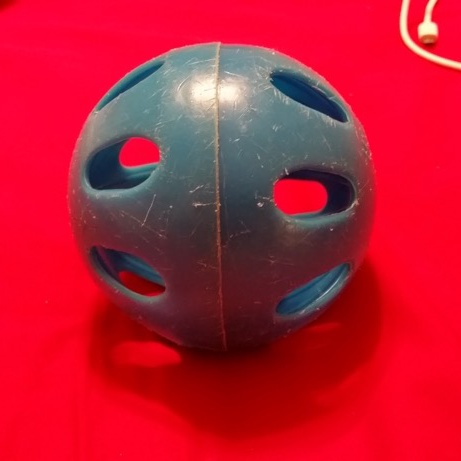blueball: (64, 33, 383, 359)
